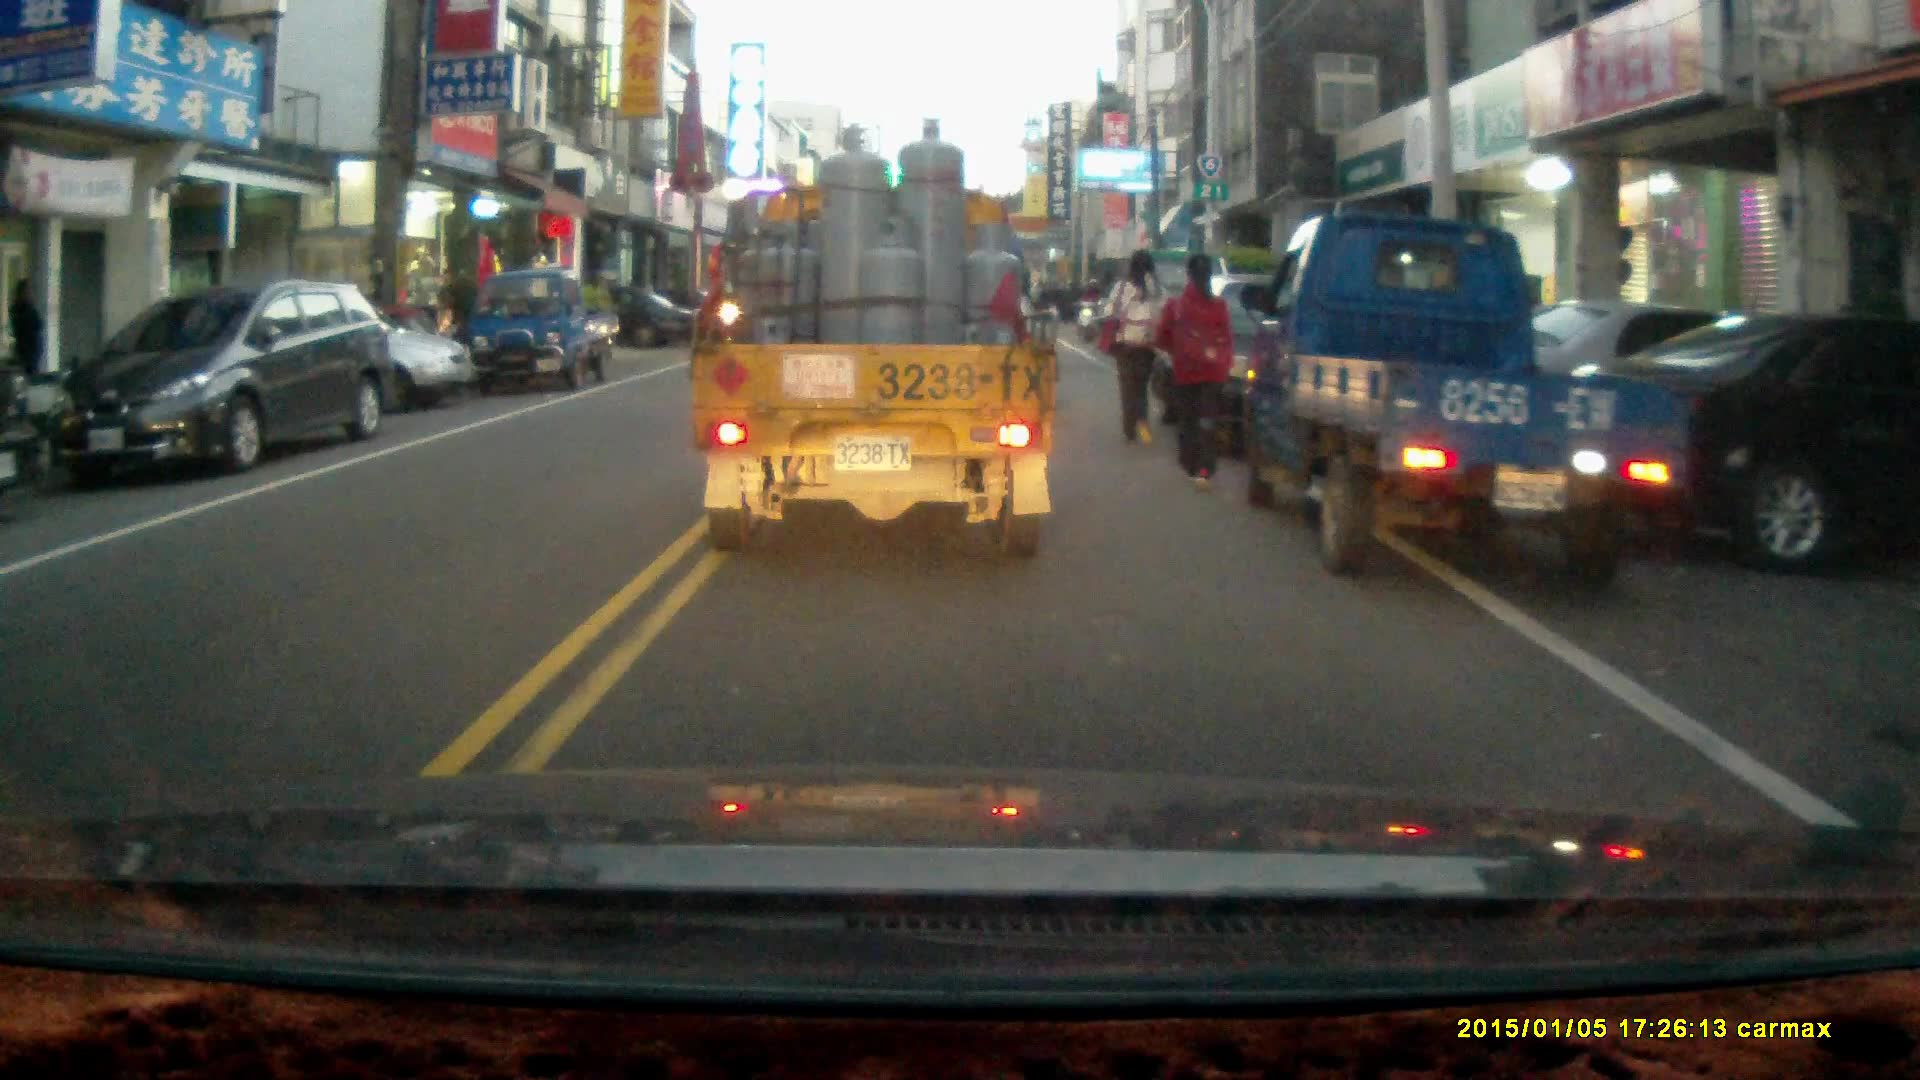pedestrian: (1149, 250, 1233, 487), (1102, 247, 1169, 448), (7, 276, 45, 404)
rider: (1071, 274, 1102, 339)
vehicle: (1238, 214, 1687, 597), (689, 120, 1060, 563), (54, 281, 397, 480), (201, 293, 477, 420), (464, 273, 611, 400)
